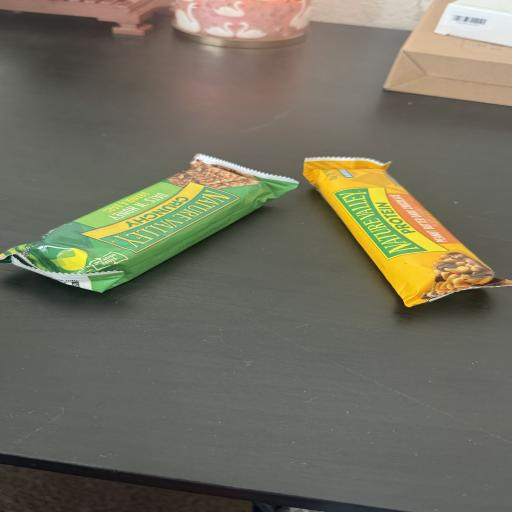granola: (0, 155, 298, 292), (304, 158, 511, 306)
